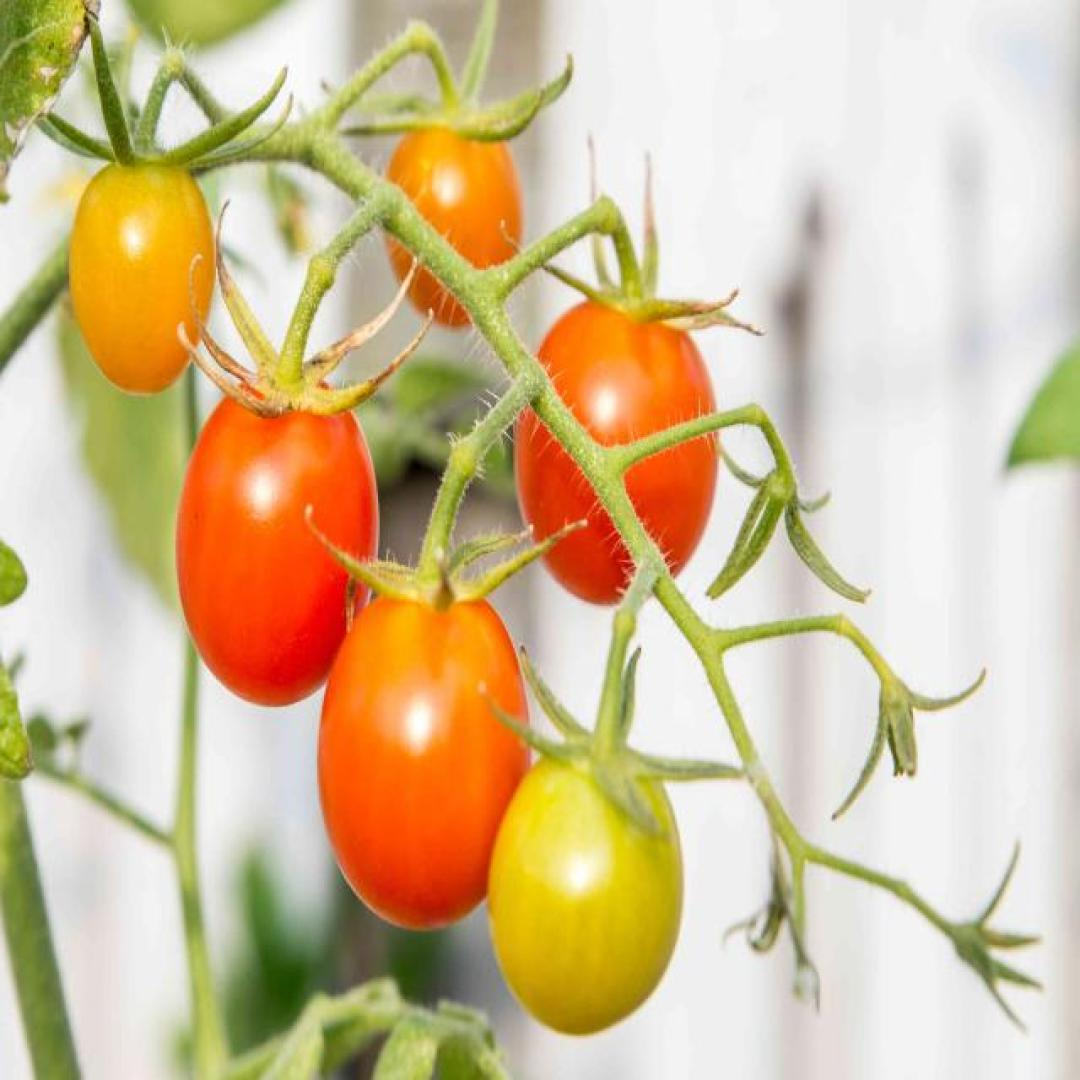matang: (175, 368, 382, 709), (510, 284, 722, 614)
mentah: (484, 731, 685, 1036)
setengah_matang: (314, 579, 533, 931), (66, 152, 221, 398), (381, 105, 525, 330)
